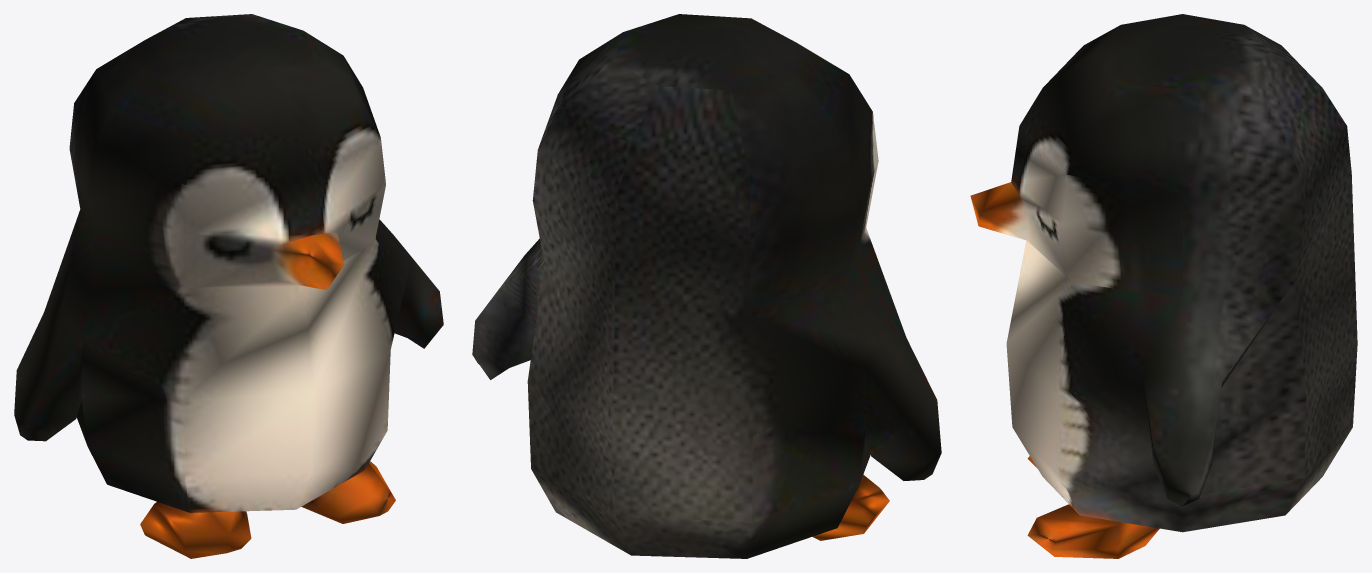
Rendered from penguin-felt-01-41-sleepy-closed-eye.gltf.
3 renders of one model, left to right at view 1: azimuth 30°, elevation 25°; view 2: azimuth 150°, elevation 25°; view 3: azimuth 270°, elevation 25°, orthographic. The views are drawn at different scales.
Parts seen in each view (by area): view 1: penguin-felt-01-41-sleepy-closed-eye; view 2: penguin-felt-01-41-sleepy-closed-eye; view 3: penguin-felt-01-41-sleepy-closed-eye.
Boxes of the visible parts, box(x1,y1,x2,y2) form: penguin-felt-01-41-sleepy-closed-eye: box(14, 14, 443, 558); penguin-felt-01-41-sleepy-closed-eye: box(472, 14, 941, 558); penguin-felt-01-41-sleepy-closed-eye: box(970, 14, 1357, 558).
Size of the model in its own units: 0.2 by 0.208 by 0.1555.
1 material, 1 textured.
